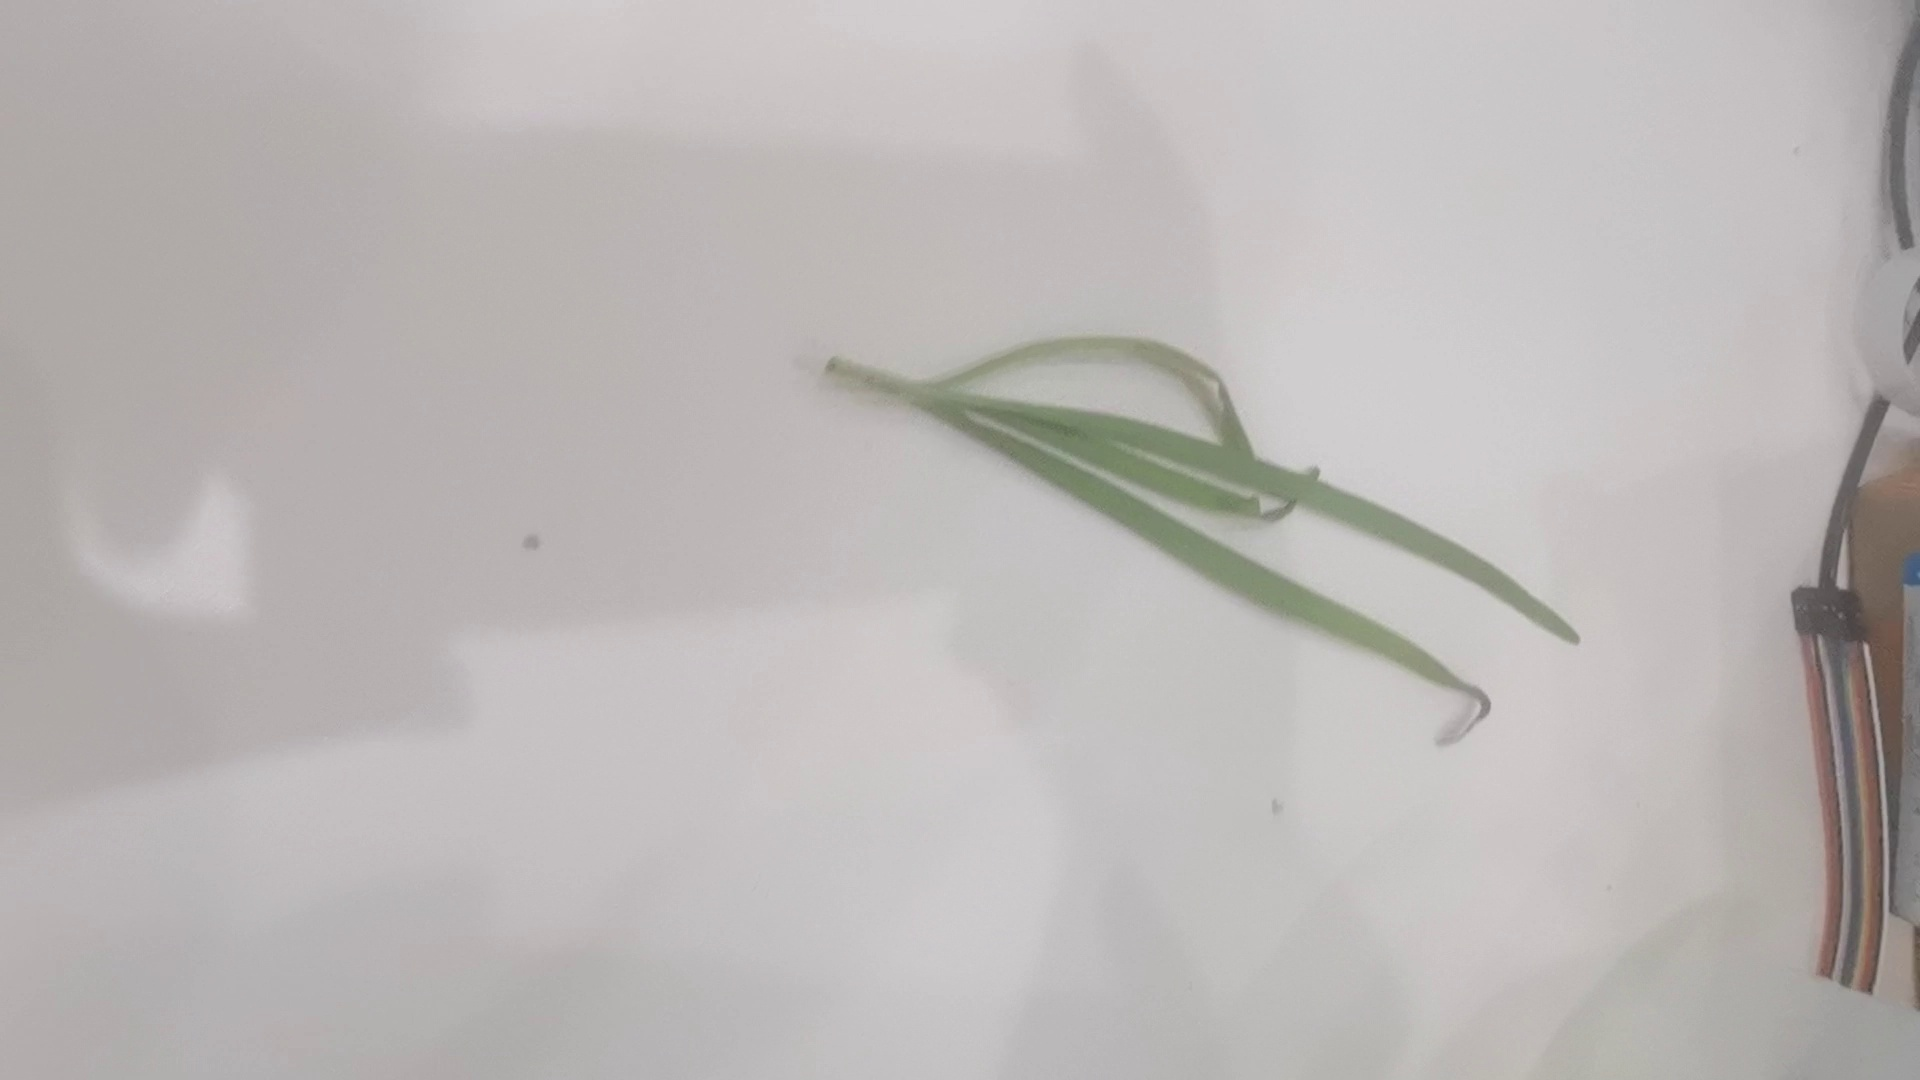chives: (808, 334, 1590, 745)
